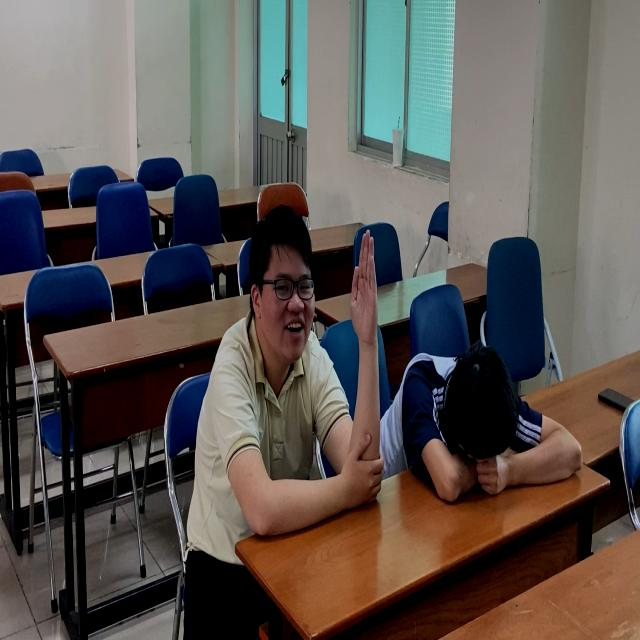raise_hand: (208, 200, 384, 558)
sleep: (390, 333, 589, 511)
